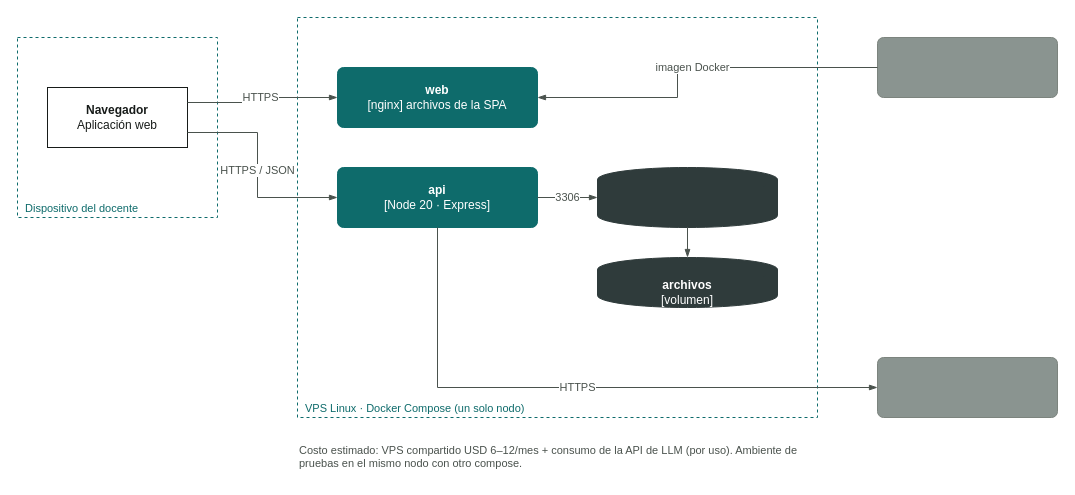
Image size: 1075x495. Some labels were removed from this diagram. Each missing label, with the box of its shape:
API de LLM [externo]: (876, 356, 1058, 418)
GitHub Actions build · pruebas · despliegue: (876, 36, 1058, 98)
mysql [MySQL 8] + volumen: (596, 166, 778, 228)
